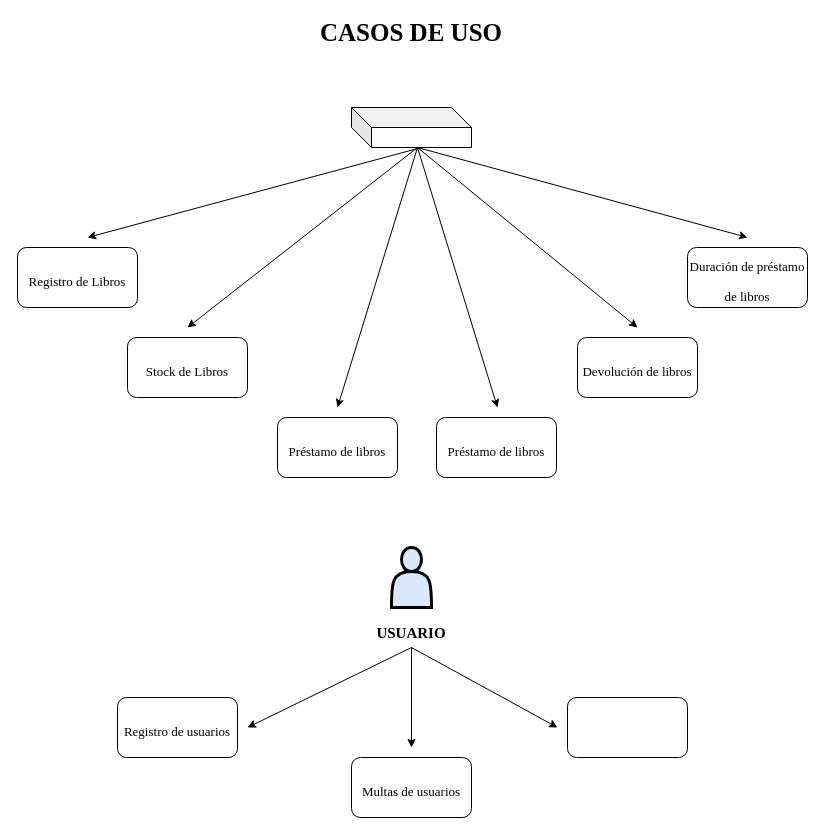
The diagram is 825 pixels wide and 835 high, and some of its shapes have lost their labels. The box of each missing label's shape, as (x1, y1, x2, y2) in pixels:
Historial de préstamo de usuario: (566, 696, 688, 758)
LIBROS: (350, 106, 472, 148)
